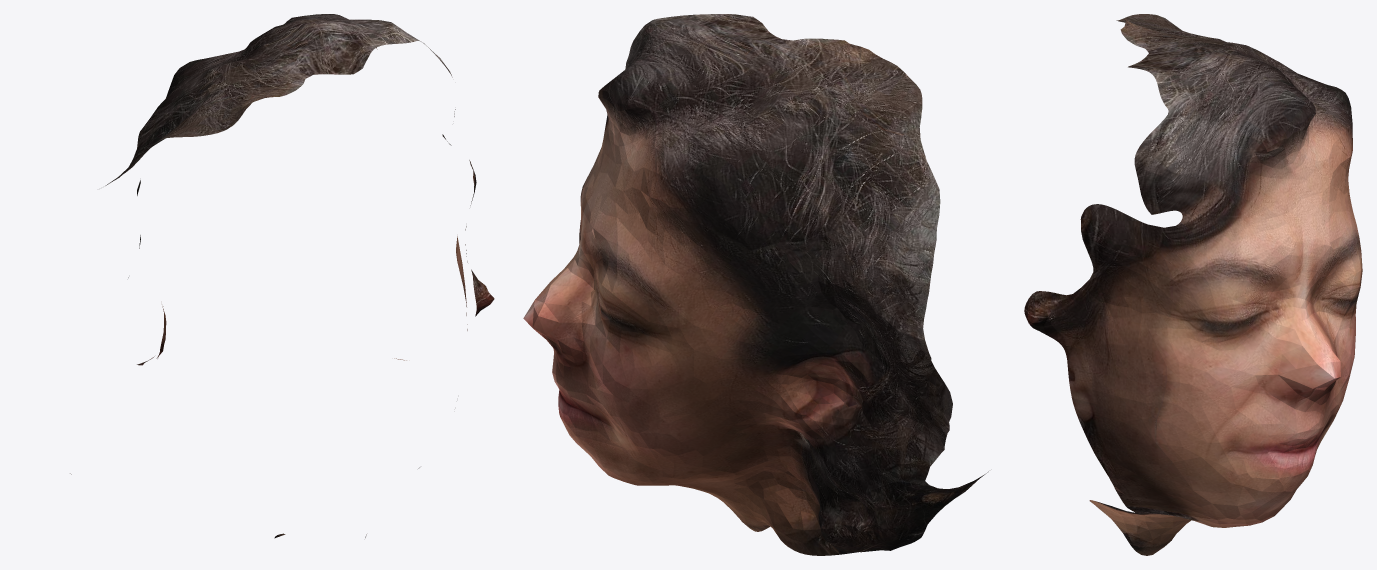
The model's file is BUSTO_107.glb.
3 views of the same model, side by side, from view 1: azimuth 30°, elevation 25°; view 2: azimuth 150°, elevation 25°; view 3: azimuth 270°, elevation 25° (orthographic).
Parts seen in each view (by area): view 1: Mesh_0; view 2: Mesh_0; view 3: Mesh_0.
Part boxes in pixels (bbox=[...]): Mesh_0: bbox=[70, 14, 494, 538]; Mesh_0: bbox=[523, 14, 988, 555]; Mesh_0: bbox=[1024, 14, 1362, 555].
Bounding box in the file's own units: 3.84 × 4.67 × 2.84.
Materials: 1 (1 with a texture image).
